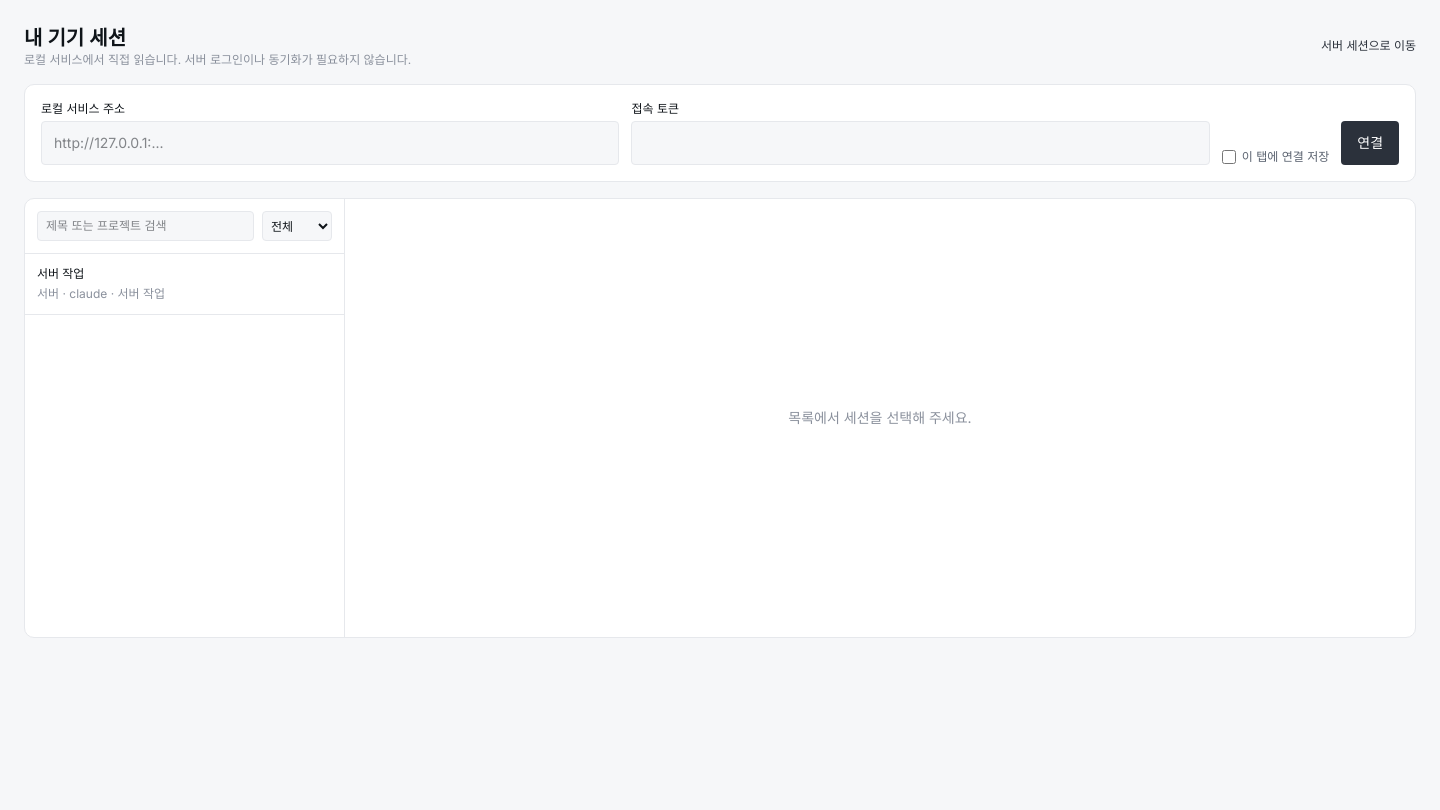
Test: LocalSessionsPanel › does not offer grouping when multiple local profiles share one native ID
In the field labelled "로컬 서비스 주소": {"x": 330, "y": 143} [41, 121, 619, 165], type "http://127.0.0.1:4567"
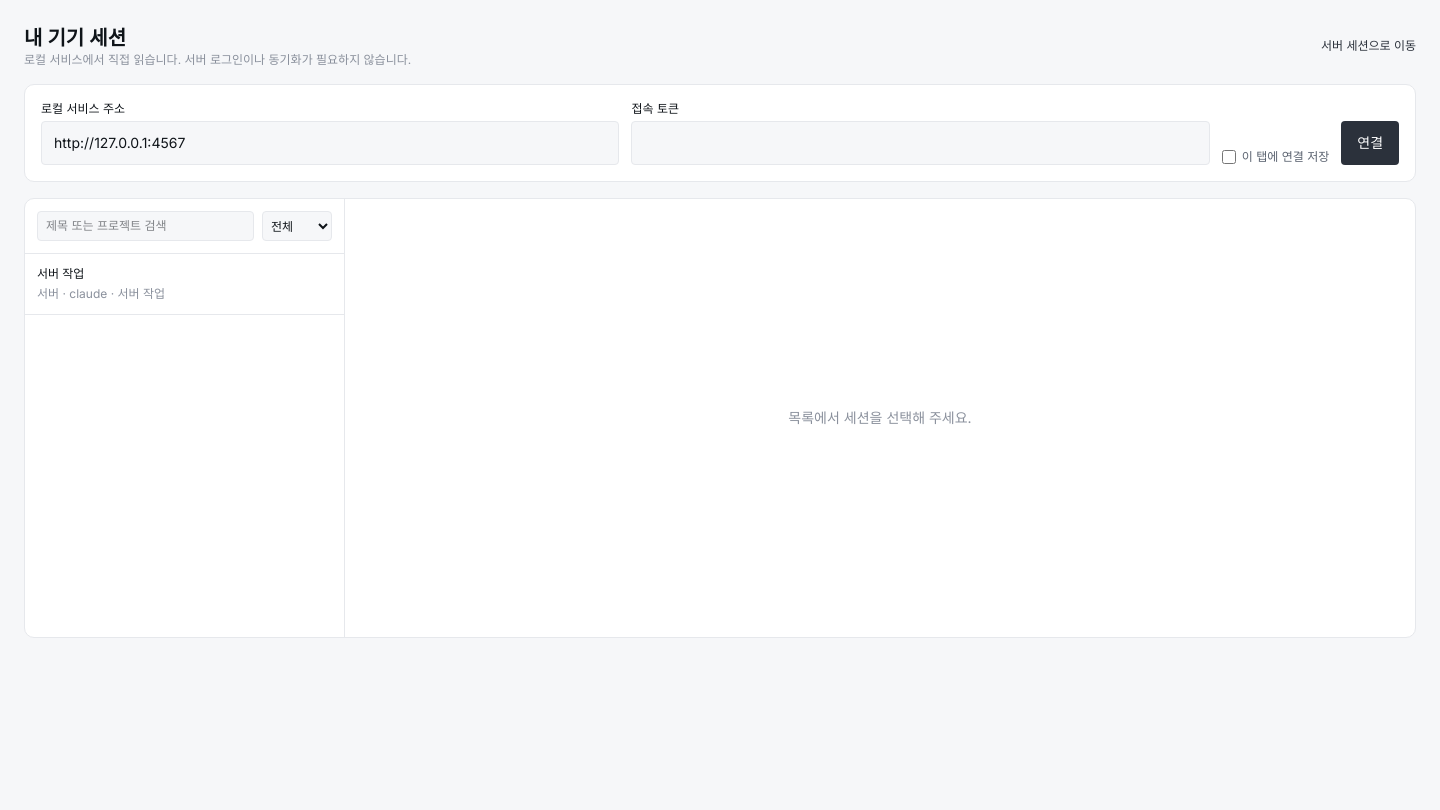
In the password field labelled "접속 토큰": {"x": 921, "y": 143} [631, 121, 1210, 165], type "temporary-value"
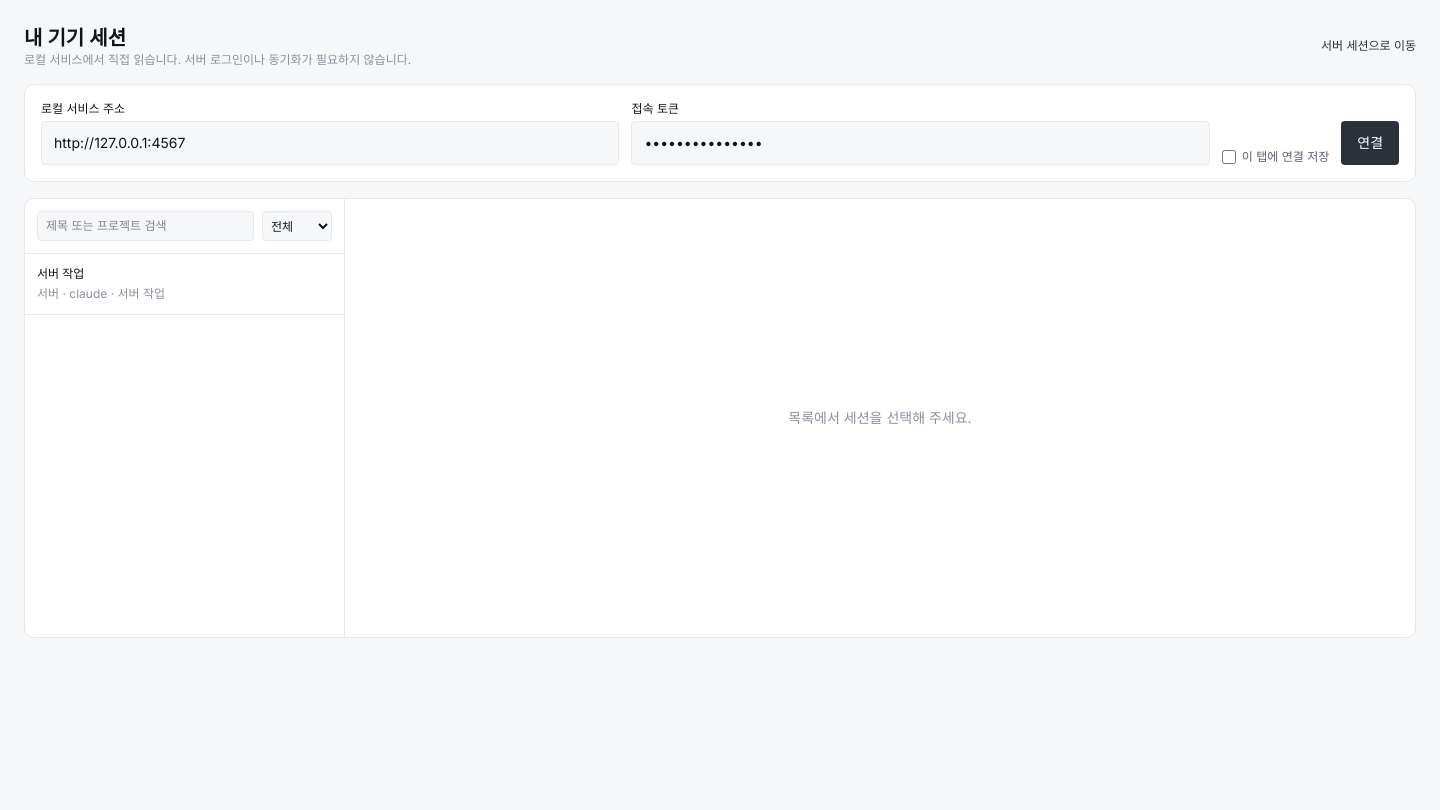
Click the button "연결": {"x": 1370, "y": 143} [1341, 121, 1399, 165]
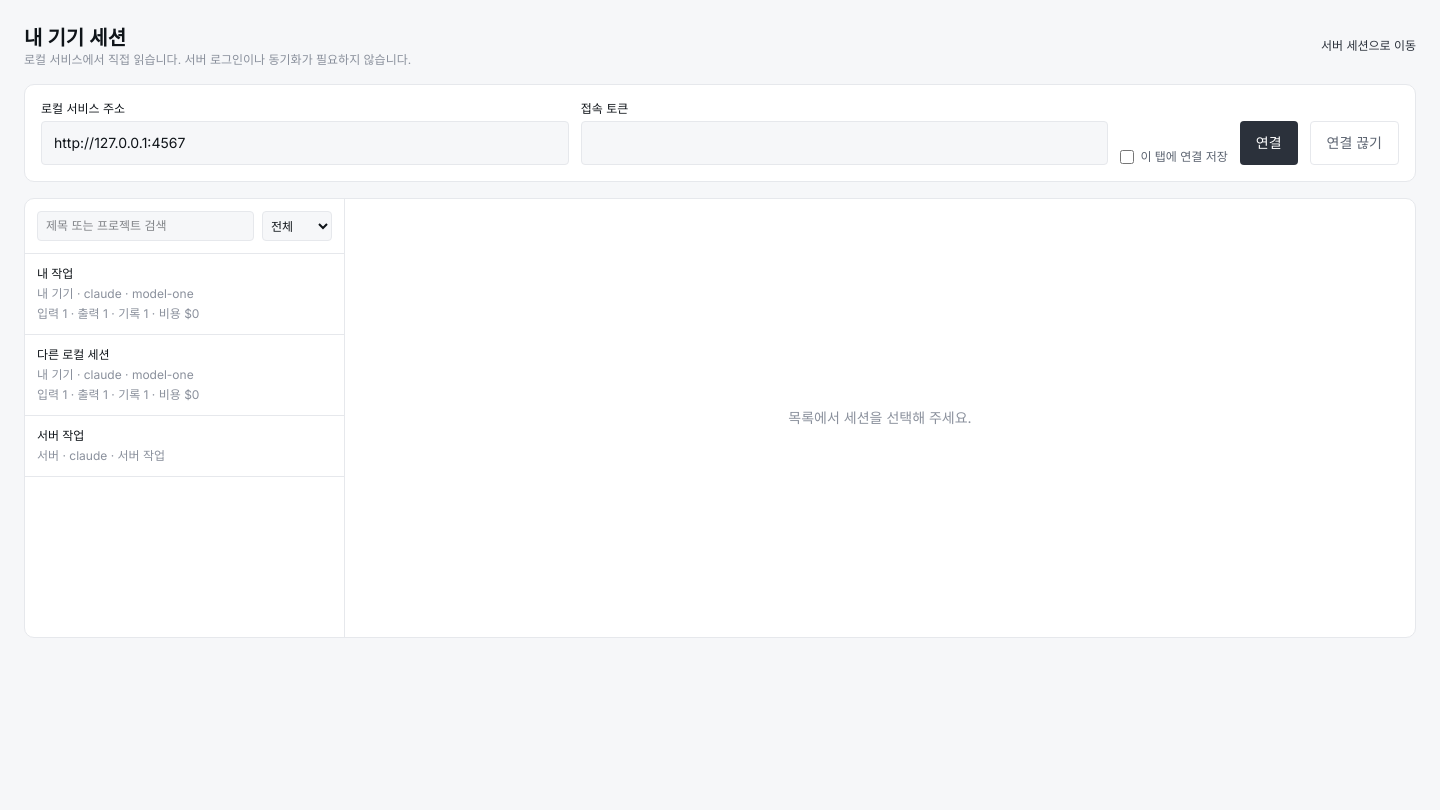
Expected: the button "서버 작업 서버 · claude · 서버 작업" is shown, [25, 416, 344, 476]
Expected: the text "다른 로컬 세션" is shown, [37, 347, 110, 363]
